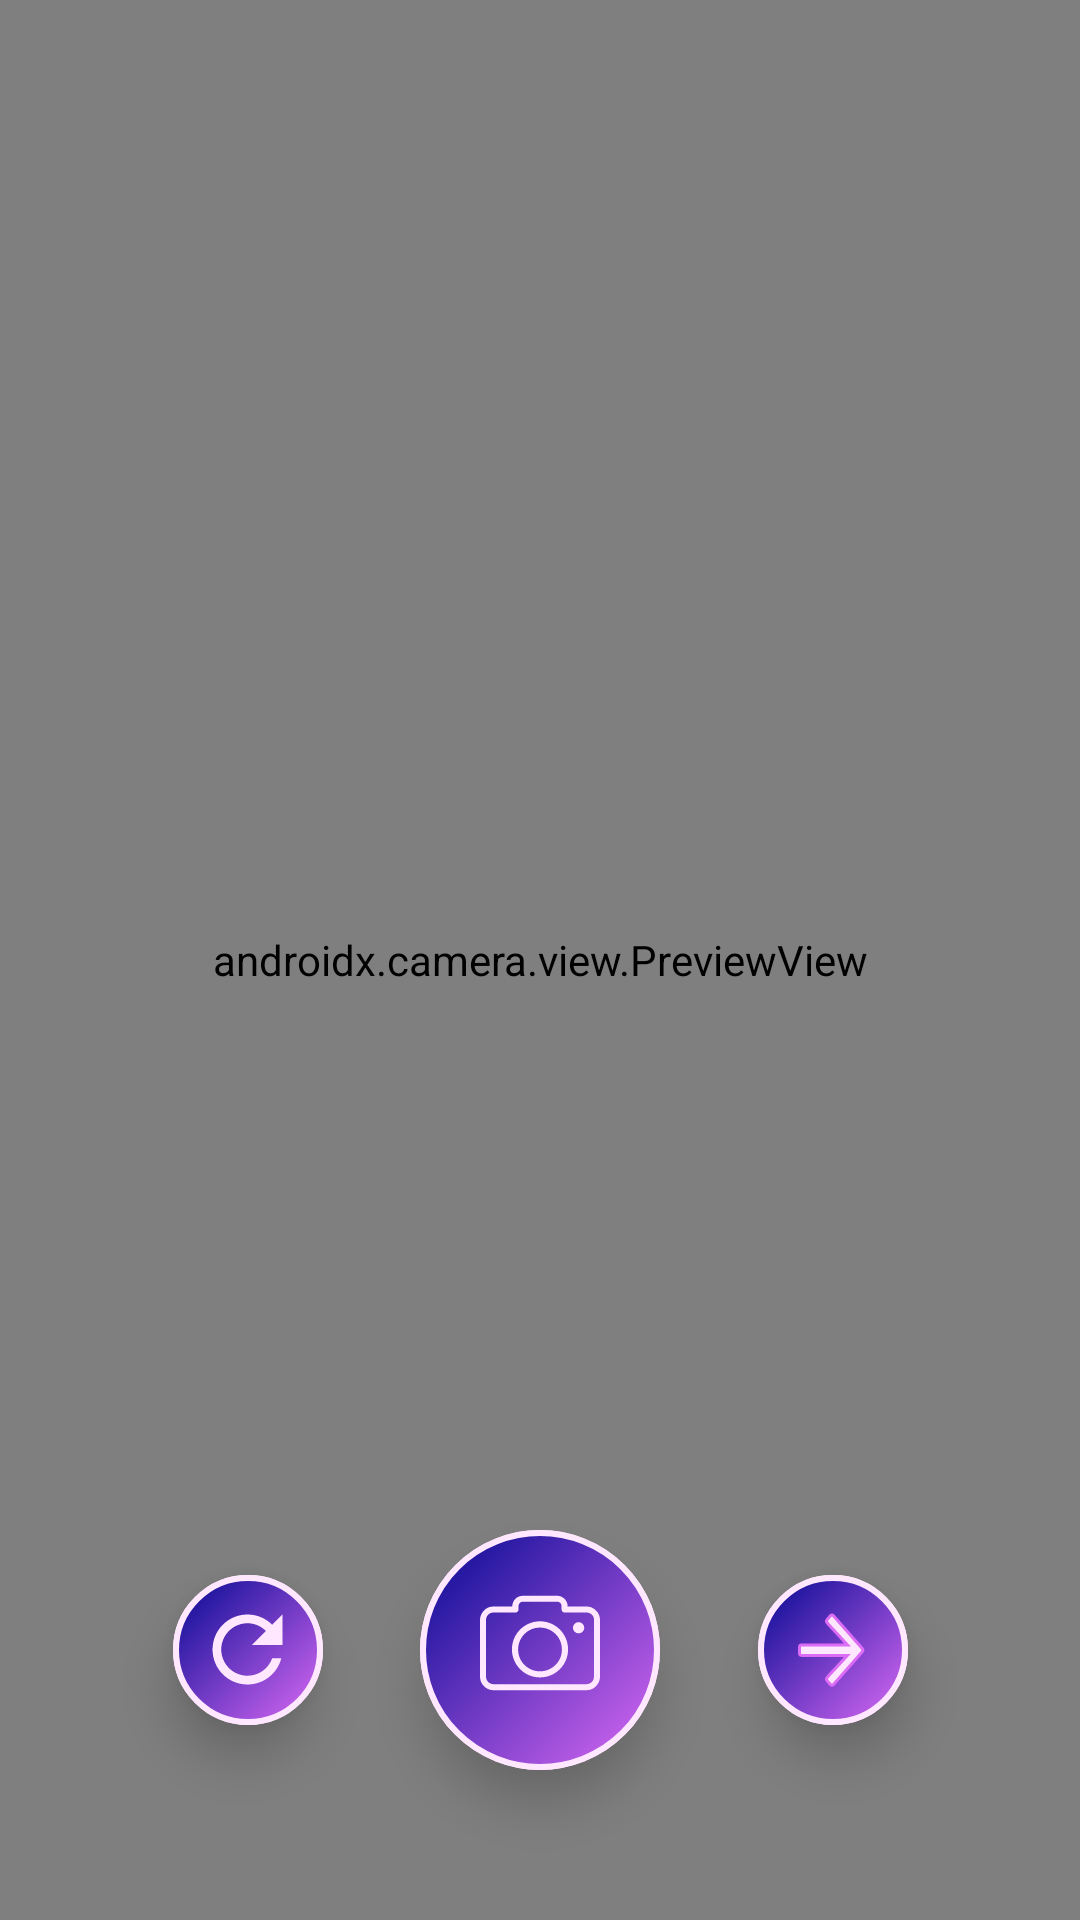

Screen size 1080 x 1920. Icon name, then its box in pixels as (x1, y1, x2, y2):
arrow: (758, 1575, 908, 1725)
retake photo: (173, 1575, 323, 1725)
